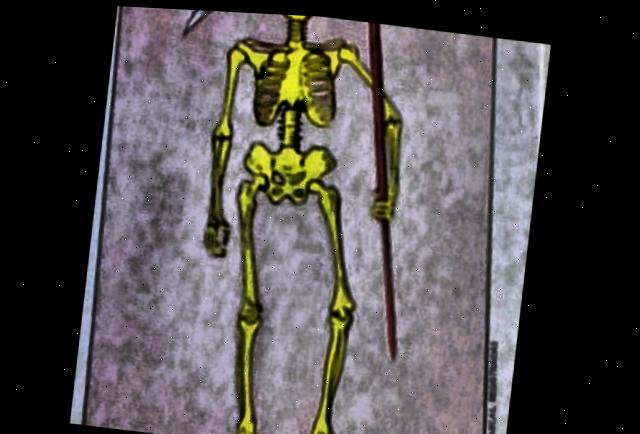La Muerte: (86, 5, 493, 434)
